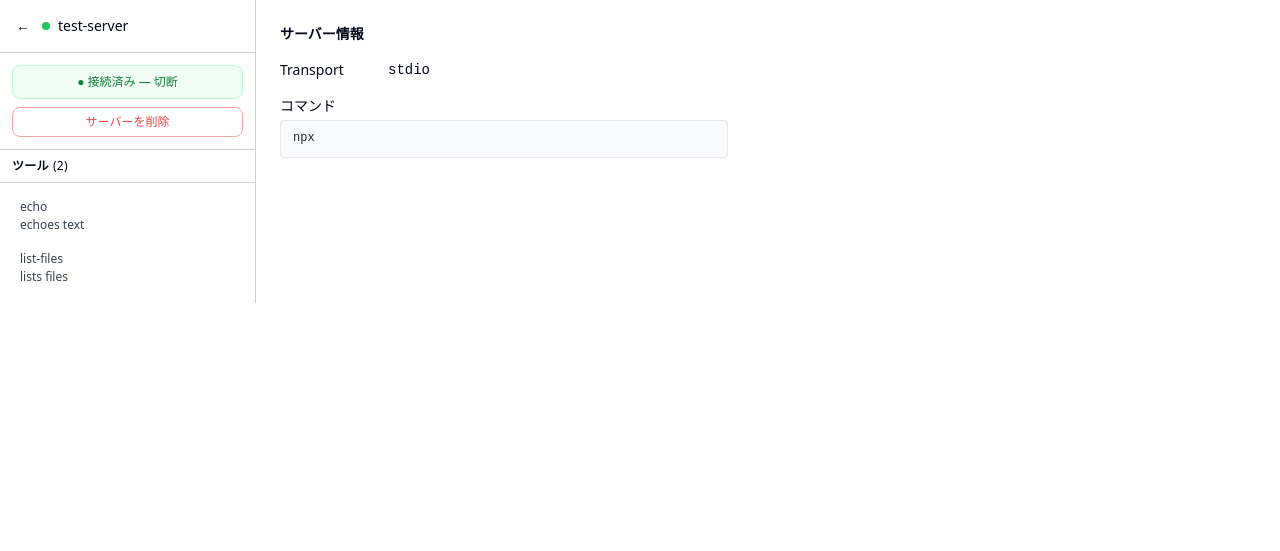
Test: ToolsView › shows result after execution
Click the button "echo echoes text". click: (128, 216)
box: [8,191,247,241]
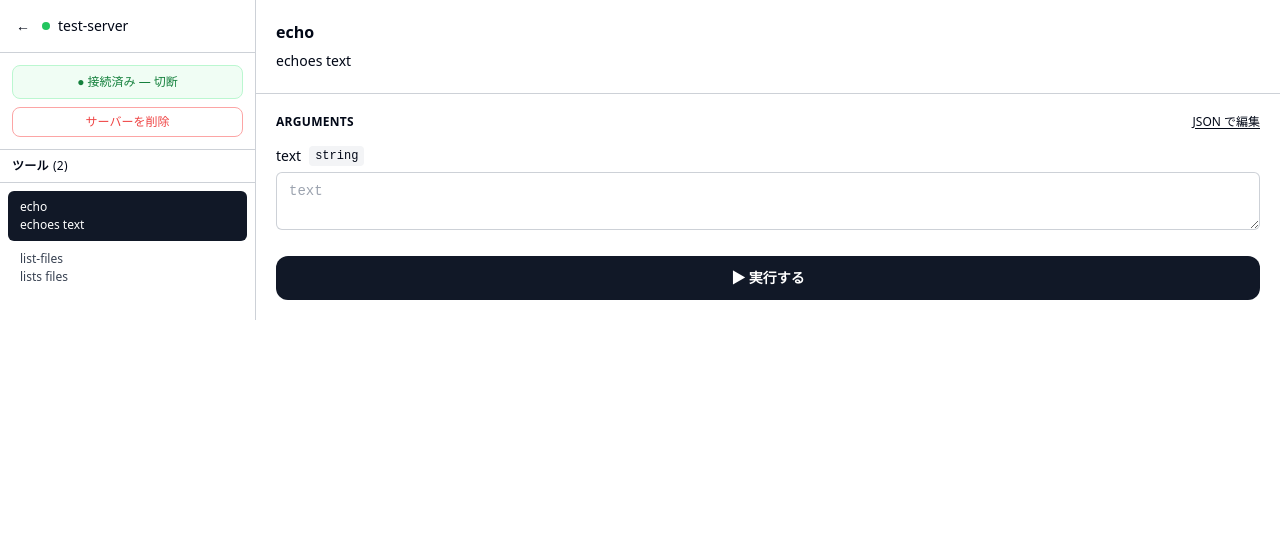
Click the button "▶ 実行する". click: (768, 278)
box: [276,256,1260,300]
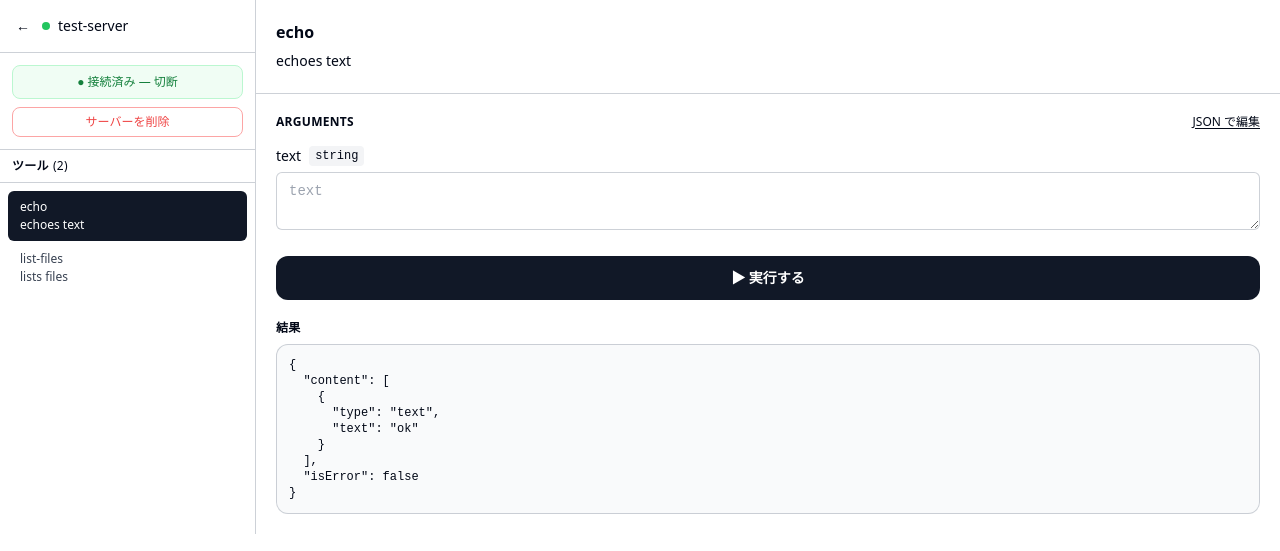
Expected: the text "結果" is shown, [276,319,301,336]
